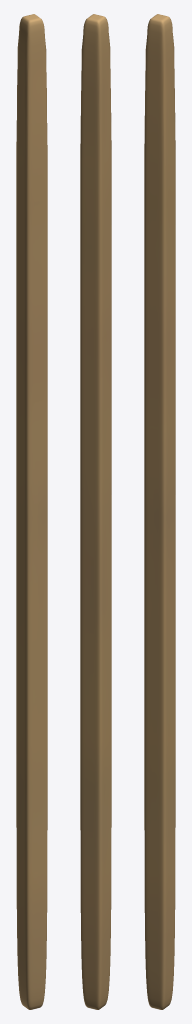
Rendered from splint.glb.
3 renders of one model, left to right at view 1: azimuth 30°, elevation 25°; view 2: azimuth 150°, elevation 25°; view 3: azimuth 330°, elevation 25°, orthographic.
Parts seen in each view (by area): view 1: splint-stick; view 2: splint-stick; view 3: splint-stick.
Part boxes in pixels (x1,y1,x2,y2): splint-stick: [16, 14, 47, 1009]; splint-stick: [80, 14, 111, 1009]; splint-stick: [144, 14, 175, 1009].
Size of what is drawn, in the model's own units: 0.3438 by 15 by 0.3438.
